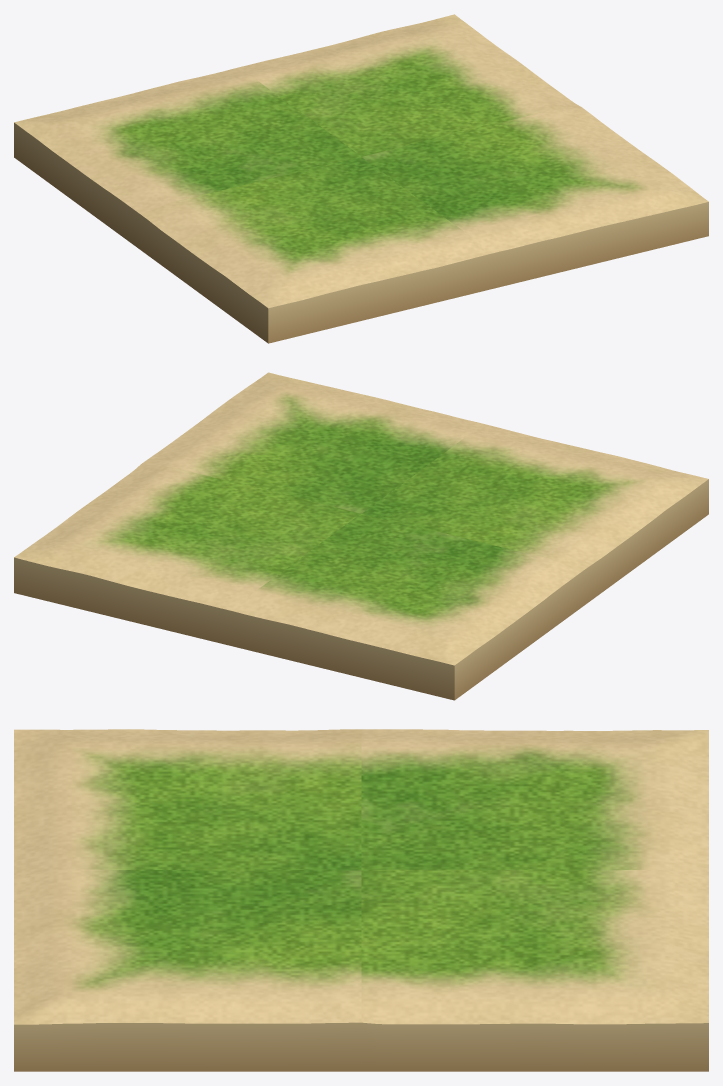
File: Land_Grass.obj
The picture shows the model from 3 angles, top to bottom: view 1: azimuth 30°, elevation 25°; view 2: azimuth 150°, elevation 25°; view 3: azimuth 270°, elevation 25°; orthographic projection. The views are drawn at different scales.
Parts seen in each view (by area): view 1: Land_Grass_Land_Grass_Terrain, Land_Grass_Palette; view 2: Land_Grass_Land_Grass_Terrain, Land_Grass_Palette; view 3: Land_Grass_Land_Grass_Terrain, Land_Grass_Palette.
Part boxes in pixels (<box>): Land_Grass_Land_Grass_Terrain: <box>14,14,708,308</box>; Land_Grass_Palette: <box>14,122,708,343</box>; Land_Grass_Land_Grass_Terrain: <box>14,372,708,665</box>; Land_Grass_Palette: <box>14,479,708,700</box>; Land_Grass_Land_Grass_Terrain: <box>14,729,708,1024</box>; Land_Grass_Palette: <box>14,1022,708,1071</box>.
Bounding box in the file's own units: 4 × 0.3575 × 4.
Materials: 2 (2 with a texture image).
